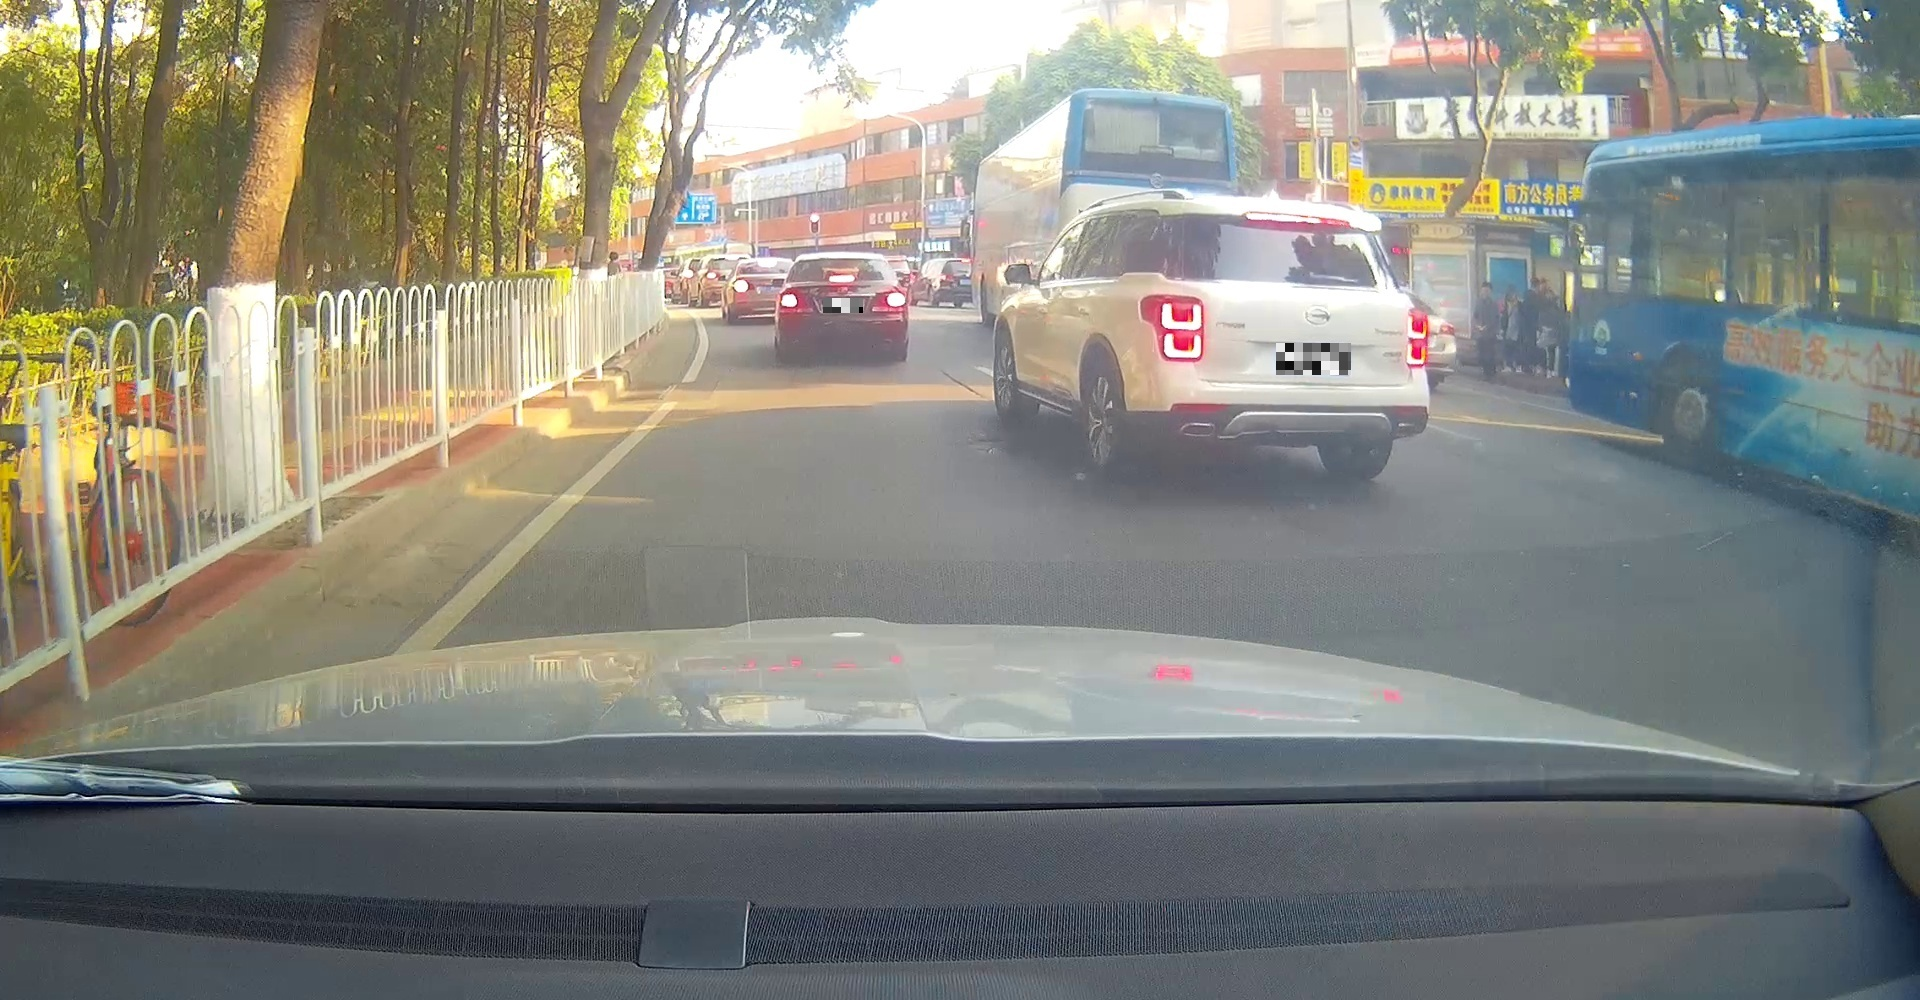L_light: (1139, 294, 1206, 363), (777, 291, 809, 311)
R_light: (1404, 306, 1429, 368), (872, 288, 905, 312)
T_light: (1243, 211, 1351, 228), (828, 275, 855, 282)
day-brake: (1135, 195, 1431, 478), (775, 251, 908, 360)
plate_1: (823, 298, 863, 313)
plate_2: (1276, 343, 1351, 376)
